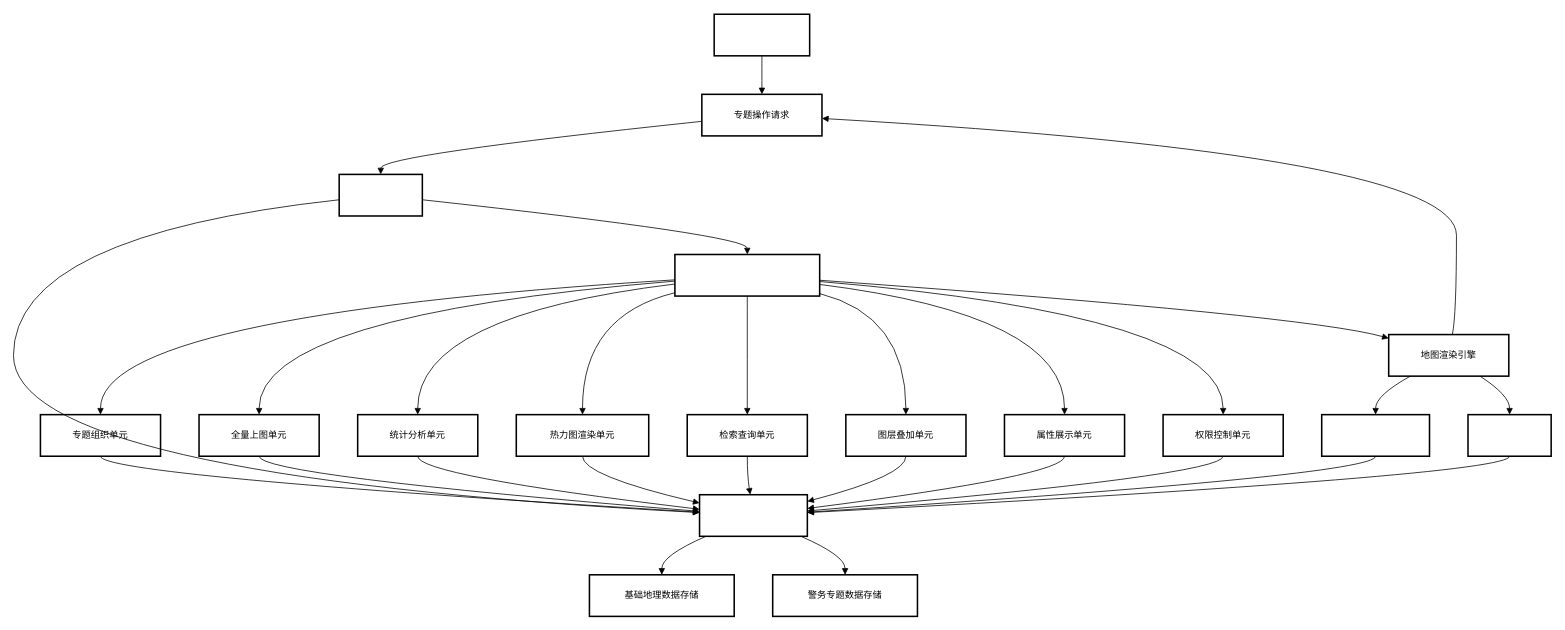
The diagram is 1565 pixels wide and 630 high, and some of its shapes have lost their labels. Each missing label, with the box of its shape:
专题数据处理模块: (674, 253, 820, 296)
数据管理层: (698, 494, 808, 537)
服务层: (338, 173, 423, 216)
样式配置库: (1321, 413, 1430, 457)
用户操作: (713, 13, 810, 56)
符号库: (1467, 413, 1552, 457)
